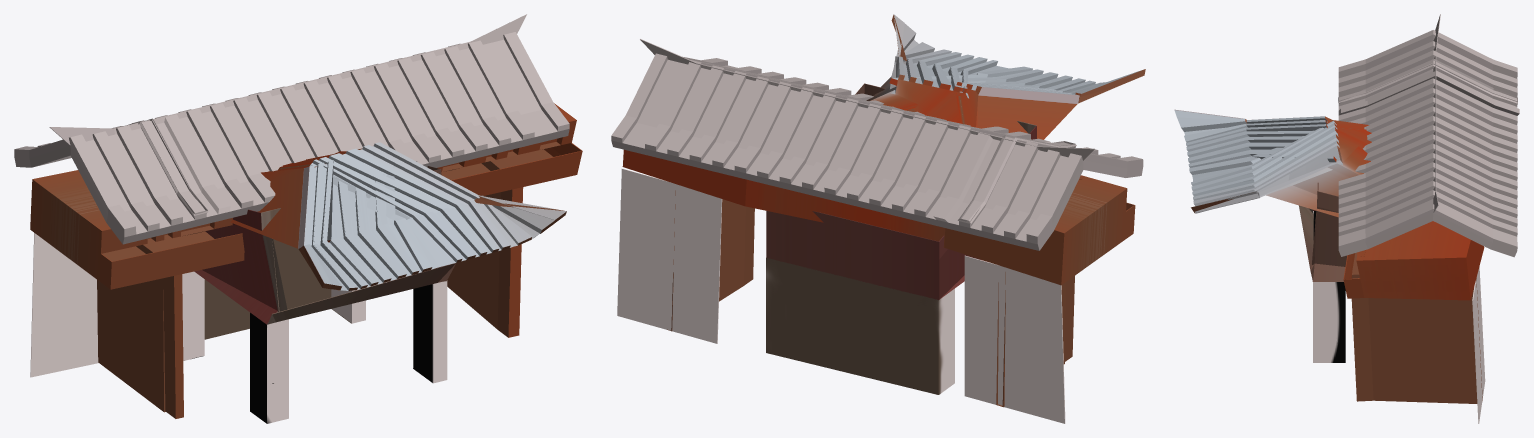
File: Library.fbx
3 renders of one model, left to right at view 1: azimuth 30°, elevation 25°; view 2: azimuth 150°, elevation 25°; view 3: azimuth 270°, elevation 25°, orthographic. The views are drawn at different scales.
Parts seen in each view (by area): view 1: lowerRoof, roof, firstFloor, lowerRoof.002, secondFlood, roof.001; view 2: roof, lowerRoof, firstFloor, lowerRoof.001, lowerRoof.002, secondFlood, roof.001; view 3: lowerRoof, roof, secondFlood, firstFloor, lowerRoof.001, roof.001.
Part boxes in pixels (left/top/right/bottom): lowerRoof: left=30, top=103, right=582, bottom=418; roof: left=14, top=32, right=569, bottom=244; firstFloor: left=182, top=239, right=447, bottom=423; lowerRoof.002: left=30, top=233, right=98, bottom=377; secondFlood: left=194, top=166, right=456, bottom=324; roof.001: left=49, top=14, right=526, bottom=145; roof: left=611, top=53, right=1143, bottom=250; lowerRoof: left=622, top=14, right=1145, bottom=407; firstFloor: left=766, top=258, right=954, bottom=394; lowerRoof.001: left=617, top=168, right=722, bottom=343; lowerRoof.002: left=964, top=255, right=1065, bottom=423; secondFlood: left=766, top=83, right=1036, bottom=300; roof.001: left=640, top=39, right=1094, bottom=160; lowerRoof: left=1174, top=109, right=1484, bottom=403; roof: left=1338, top=30, right=1519, bottom=257; secondFlood: left=1299, top=182, right=1347, bottom=281; firstFloor: left=1313, top=211, right=1345, bottom=362; lowerRoof.001: left=1472, top=266, right=1485, bottom=423; roof.001: left=1433, top=14, right=1440, bottom=212.
Size of the model in its own units: 2794 by 1533 by 2160.
6 materials, 6 textured.
